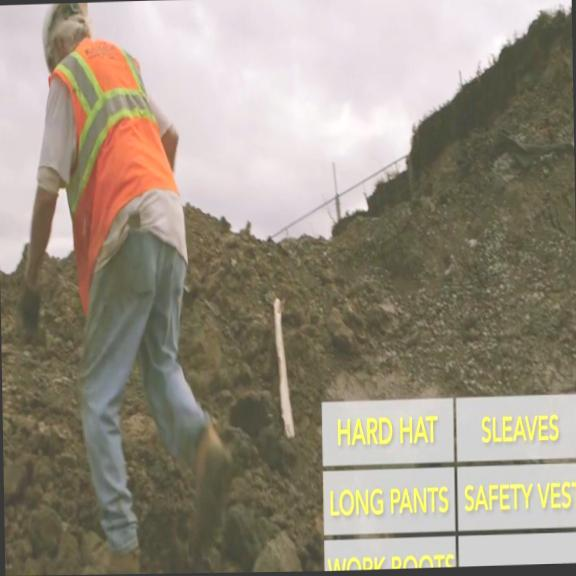safety_vest: (44, 35, 184, 312)
